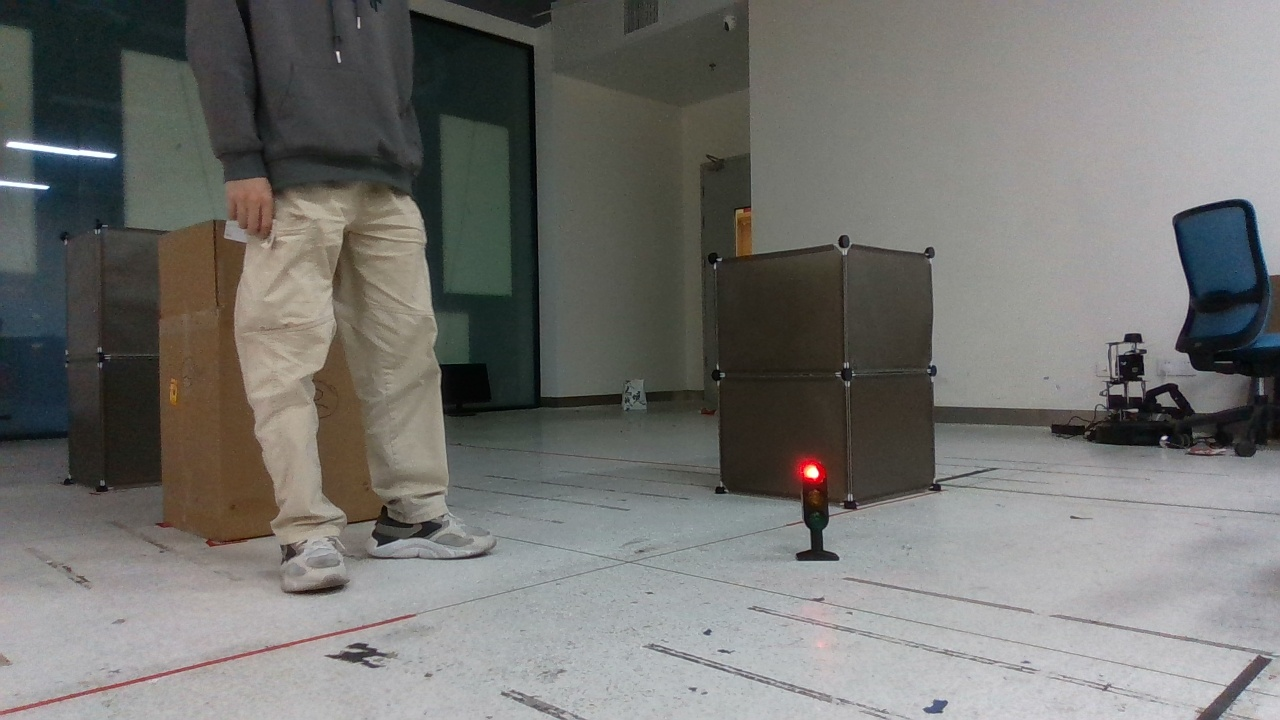red_light: (786, 440, 855, 572)
